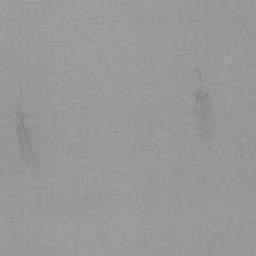Water spot: (186, 65, 219, 154), (12, 99, 44, 187)
